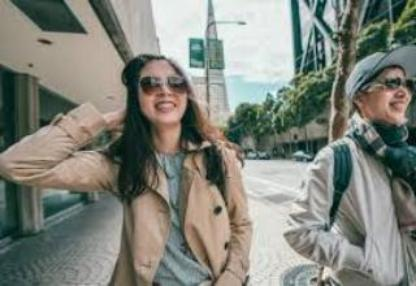person: (8, 50, 255, 286), (278, 38, 416, 285)
